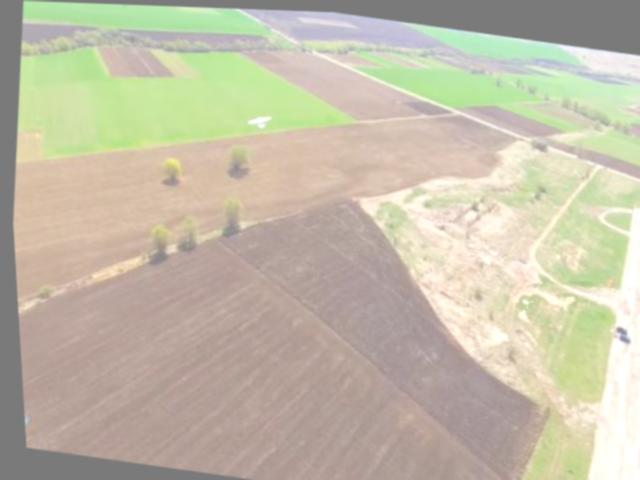uav: (240, 100, 276, 135)
